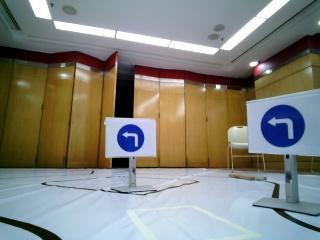left: (248, 100, 320, 152), (111, 119, 155, 157)
